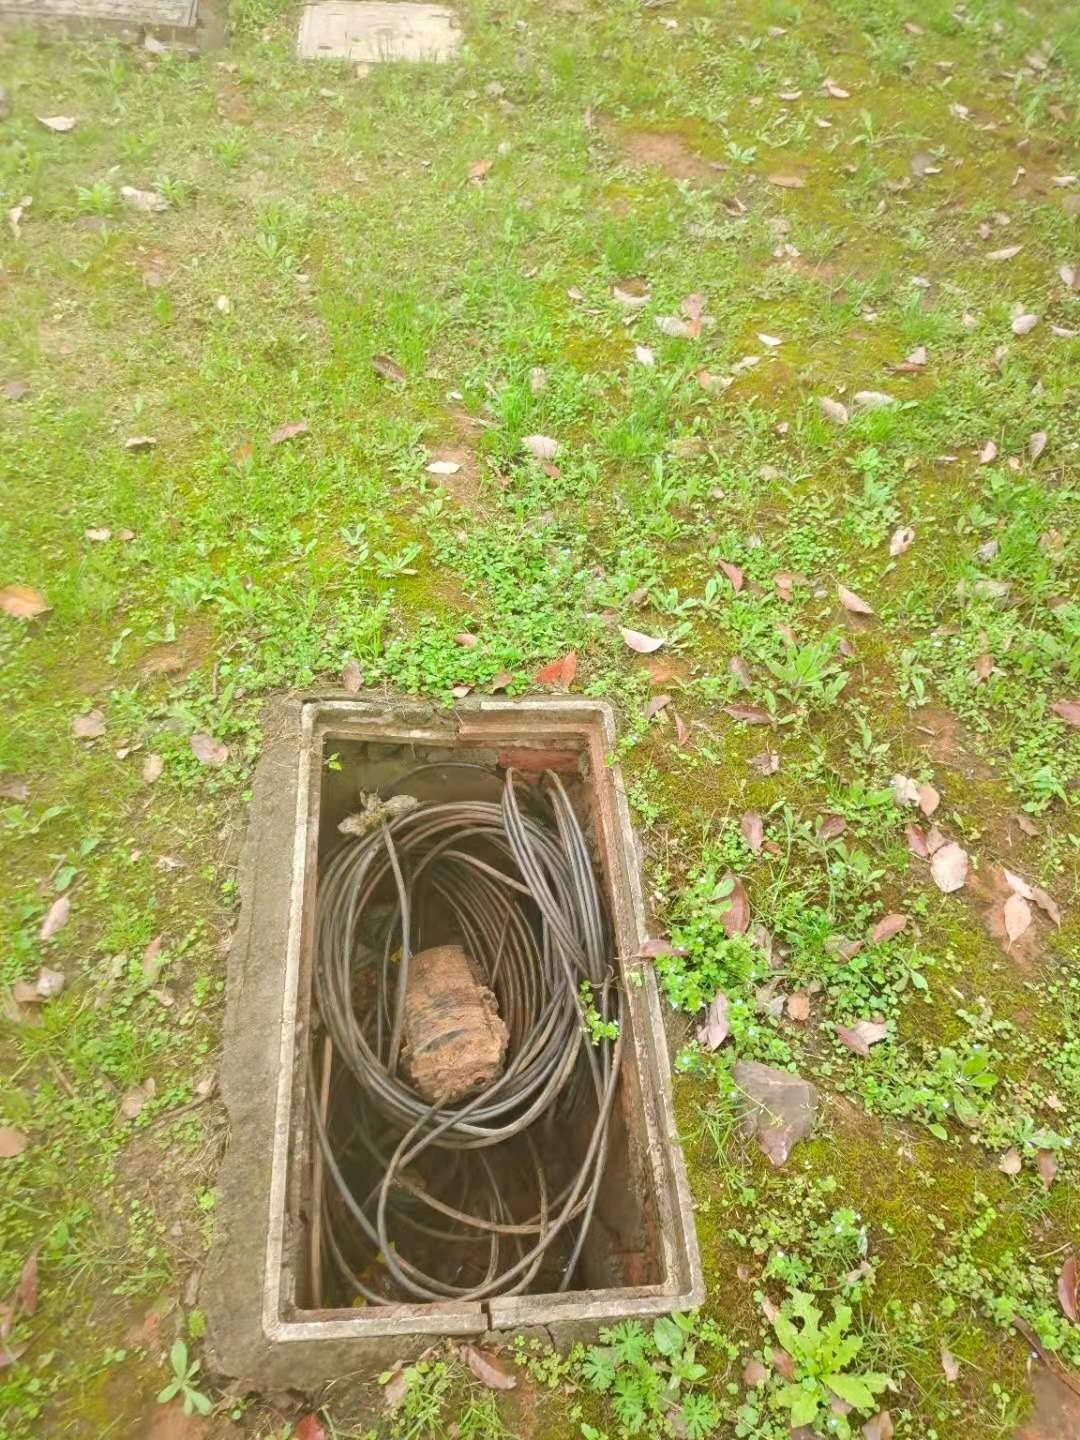lose: (262, 694, 708, 1337)
